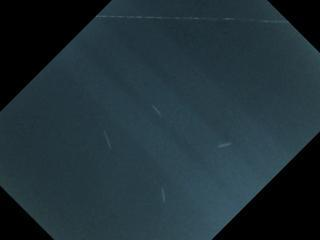crack: (94, 10, 291, 26)
scratch: (97, 125, 119, 153), (147, 98, 167, 122), (156, 182, 171, 209), (212, 136, 235, 153)
